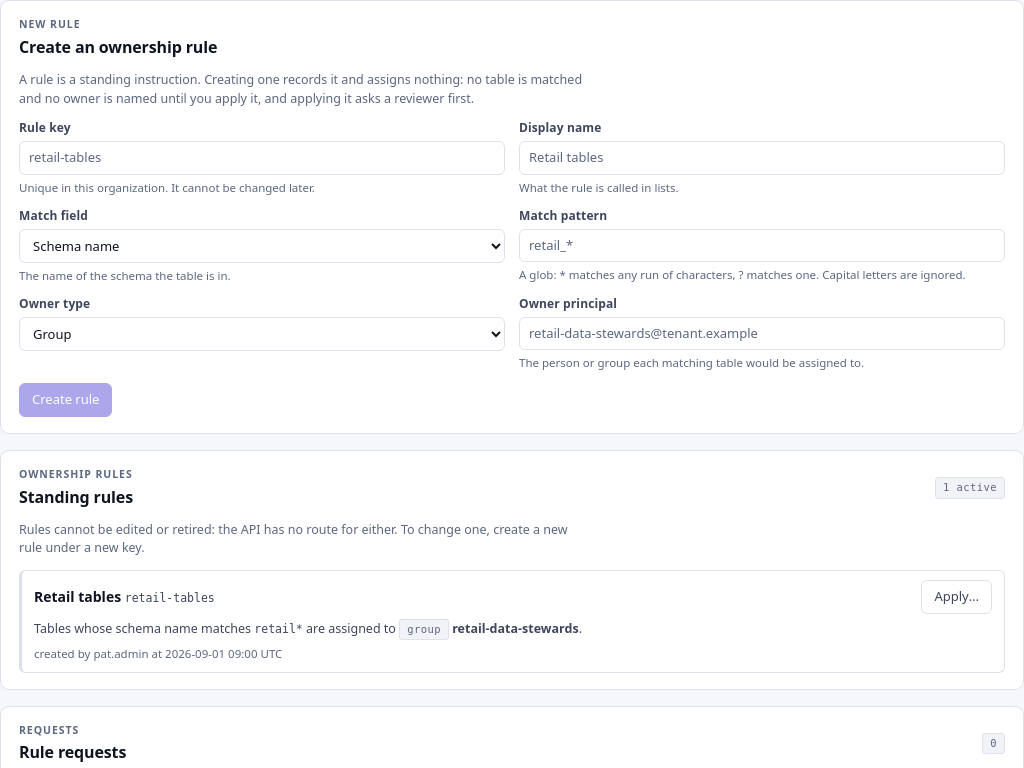
Test: Ownership rules: creating one › sends exactly what was typed, trimmed, then re-reads the list rather than editing it
Expected: the element "Create an ownership rule" is shown, [0,0,1023,434]
Expected: the text "Retail tables" is shown, [34,587,121,606]
Step 1. Type "treasury" into the field labelled "Rule key" → (262, 158), box [19,141,505,174]
Step 2. Type "  Treasury  " into the field labelled "Display name" → (762, 158), box [519,141,1005,174]
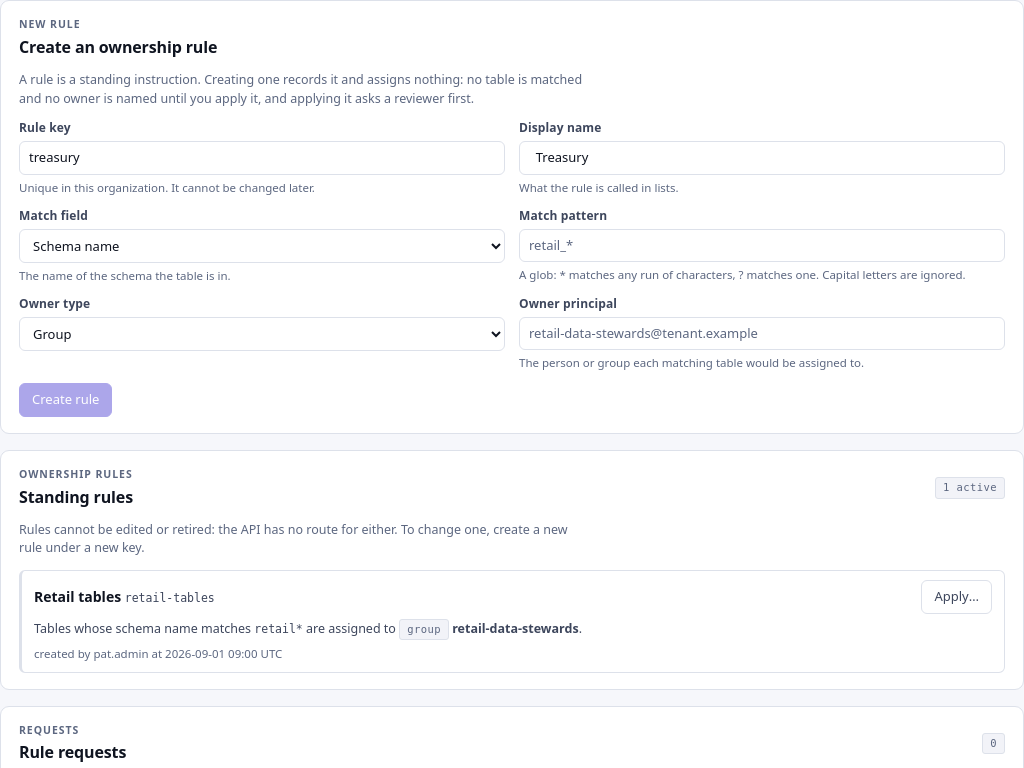
Step 3. Select "Qualified name" in the dropdown labelled "Match field" → (262, 246), box [19,229,505,263]
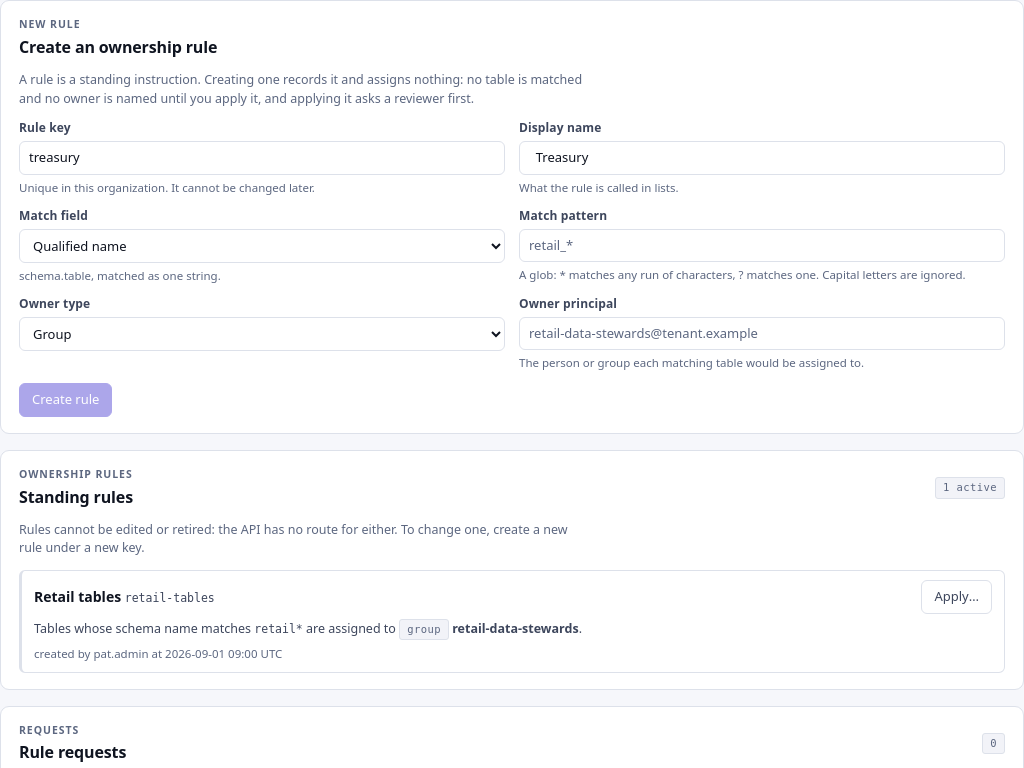
Step 4. Type "  treasury.*  " into the field labelled "Match pattern" → (762, 245), box [519,229,1005,262]
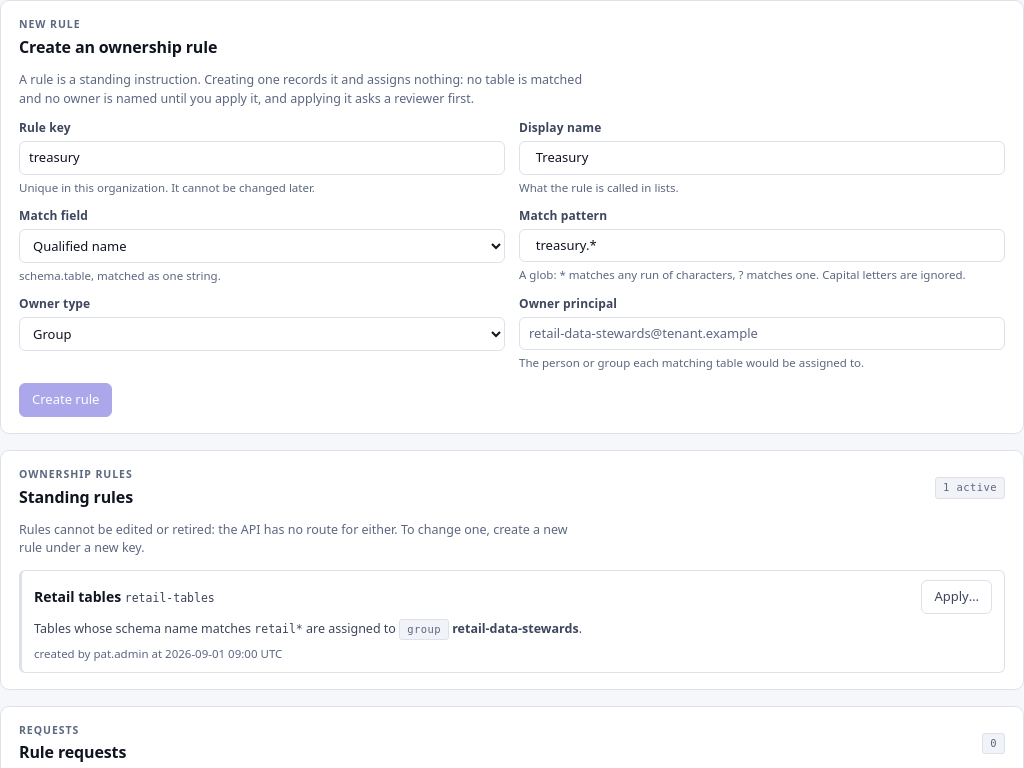
Step 5. Select "Individual" in the dropdown labelled "Owner type" → (262, 334), box [19,317,505,351]
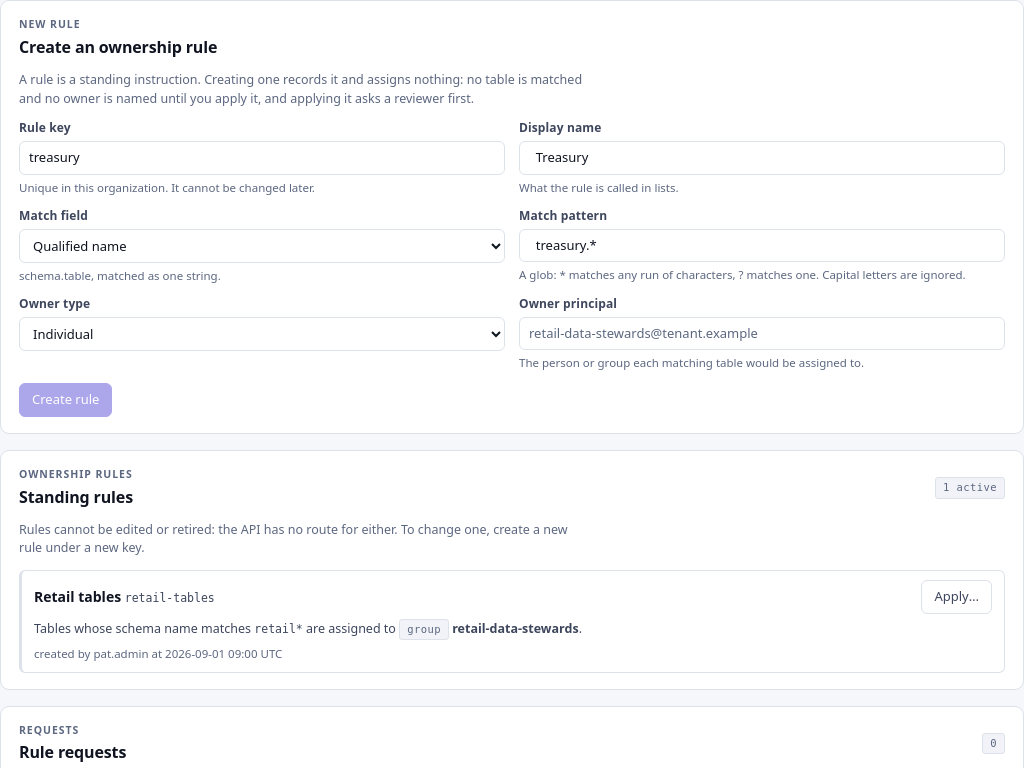
Step 6. Type " morgan@tenant.example " into the field labelled "Owner principal" → (762, 333), box [519,317,1005,350]
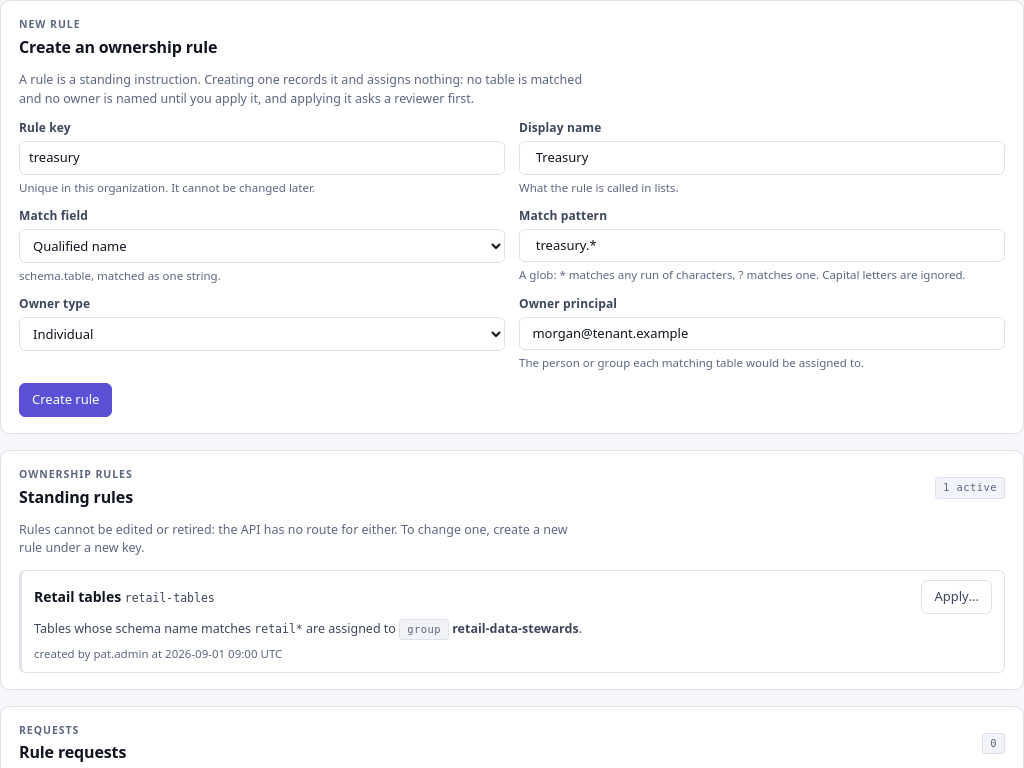
Step 7. Click the button "Create rule" → (66, 400), box [19,383,112,417]
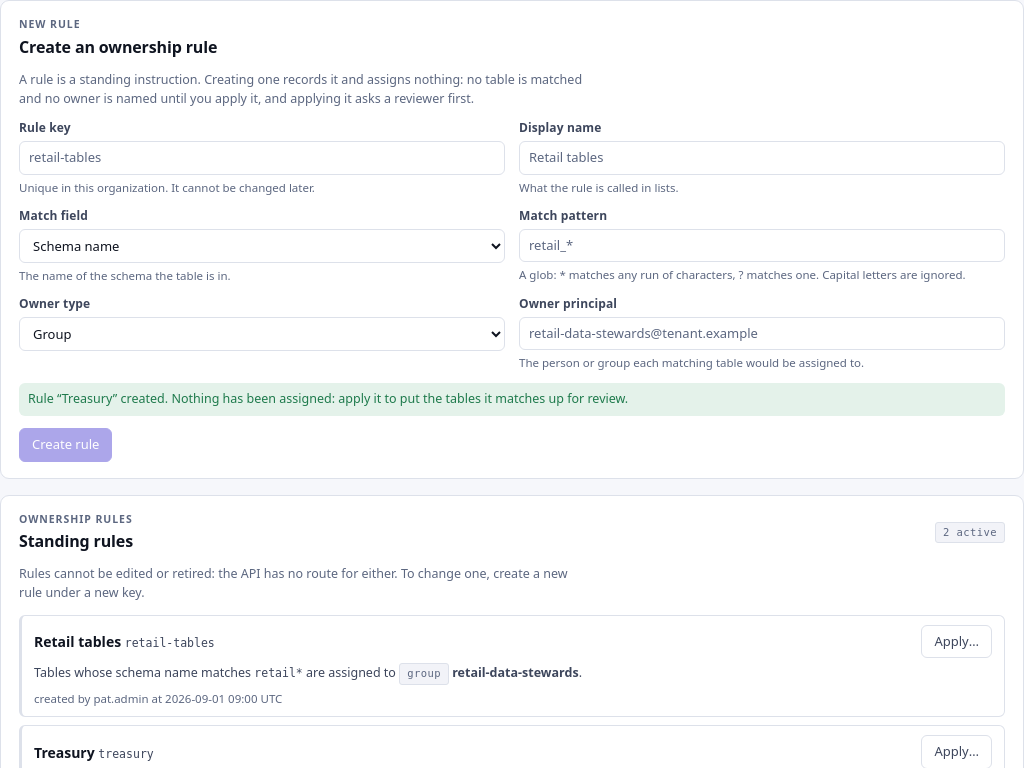
Expected: the text "Treasury" is shown, [34,742,95,762]
Expected: the text "Rule “Treasury” created. Nothing has been assigned" is shown, [19,383,1005,416]
Expected: the field labelled "Rule key" is empty, [19,141,505,174]
